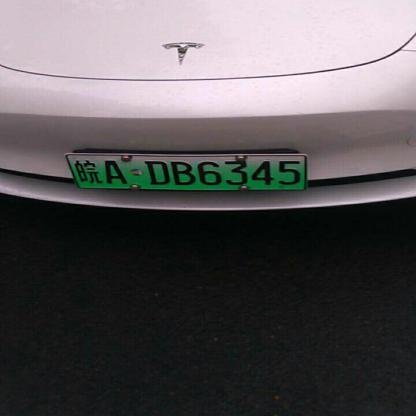lp: (66, 155, 306, 188)
